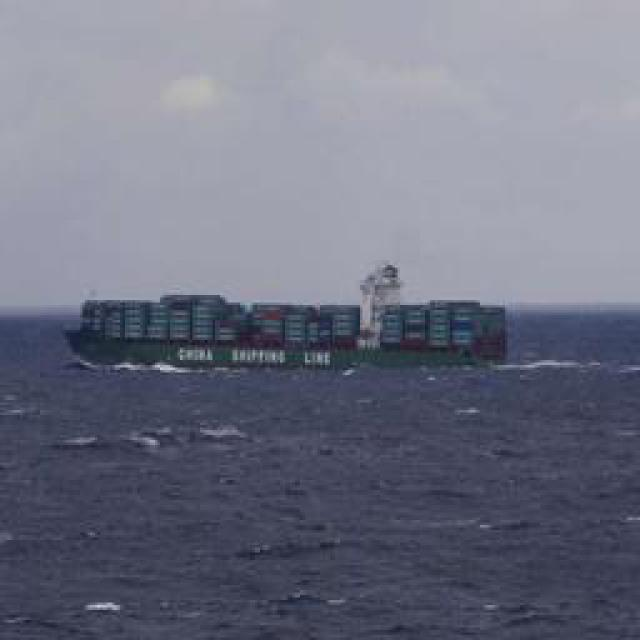Ship: (54, 257, 531, 384)
